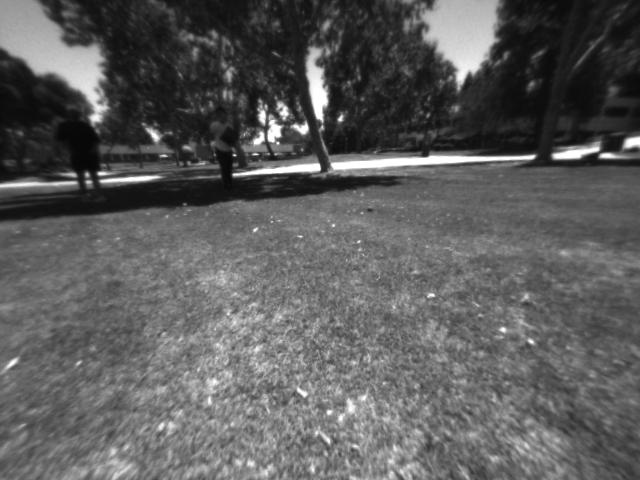dogtoy: (362, 201, 380, 217)
